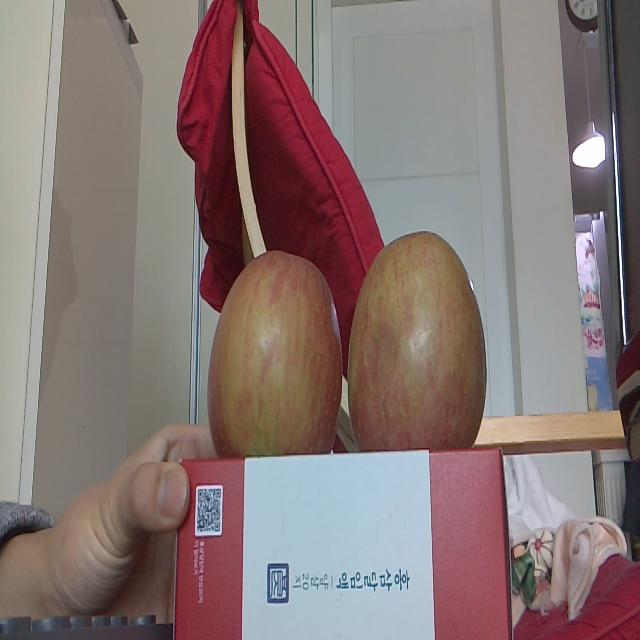apple: (349, 228, 488, 448), (208, 251, 341, 451)
